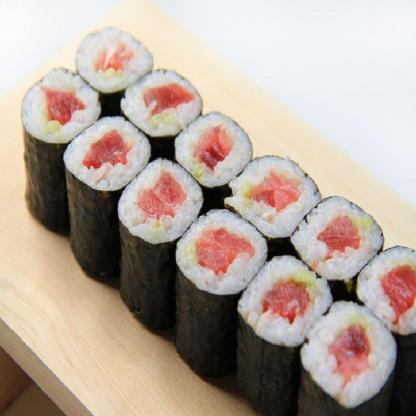tekkamaki: (166, 202, 272, 378)
